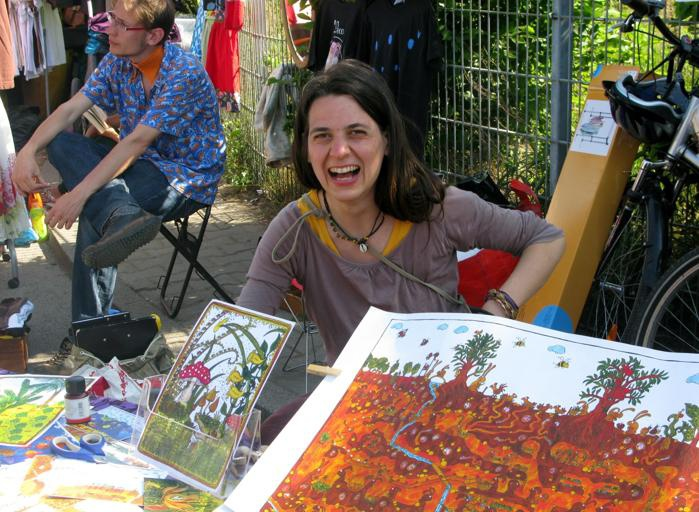non-vehicle: (579, 0, 699, 355), (628, 245, 698, 353)
